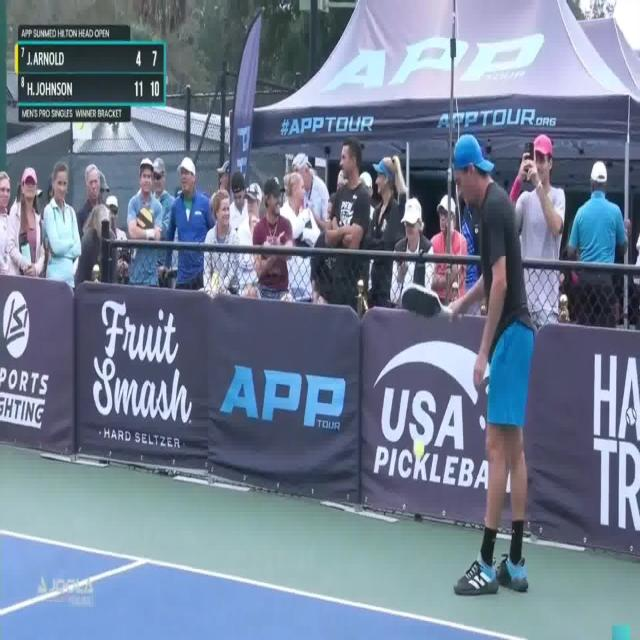ball: (414, 440, 424, 456)
